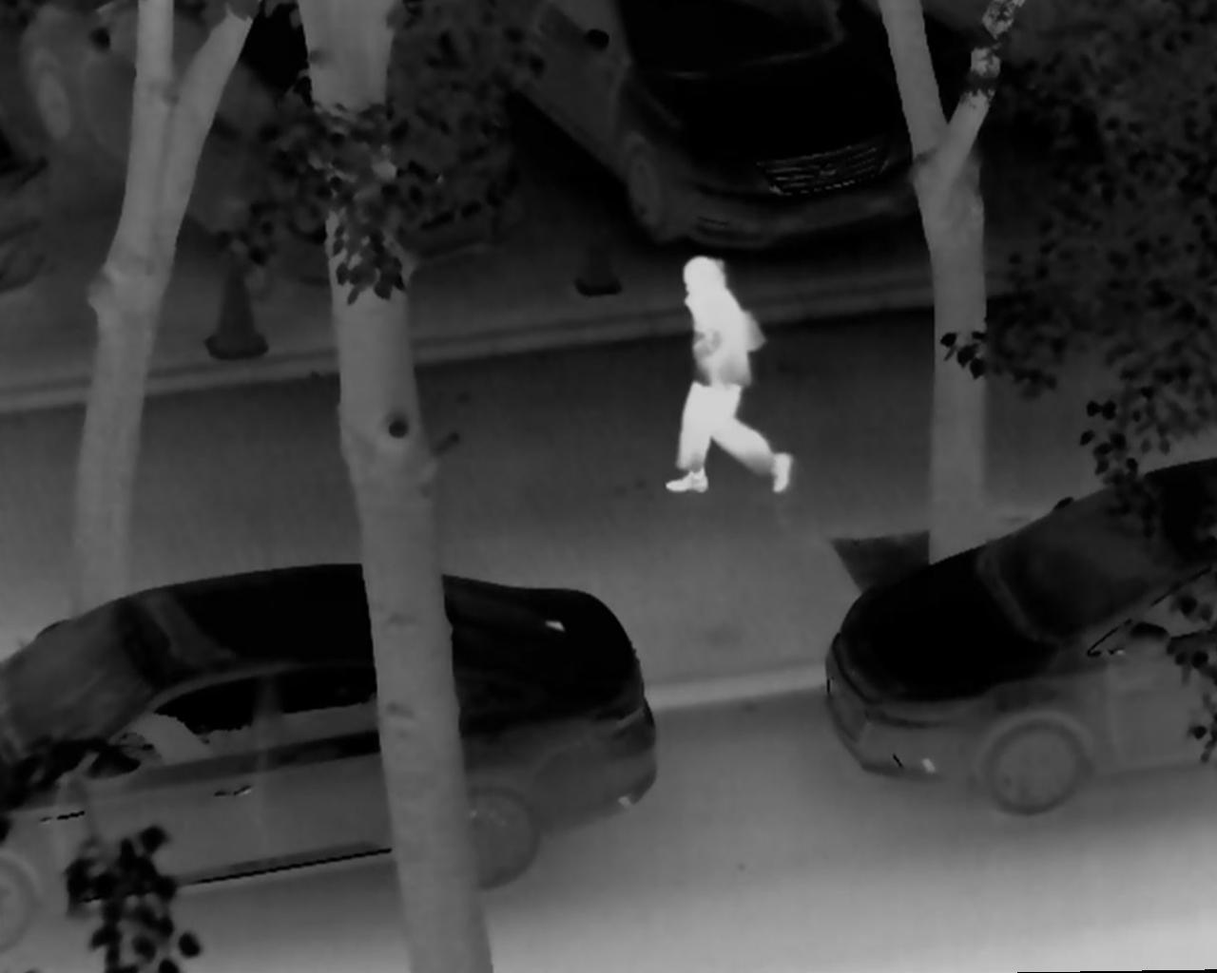person: (650, 257, 799, 500)
